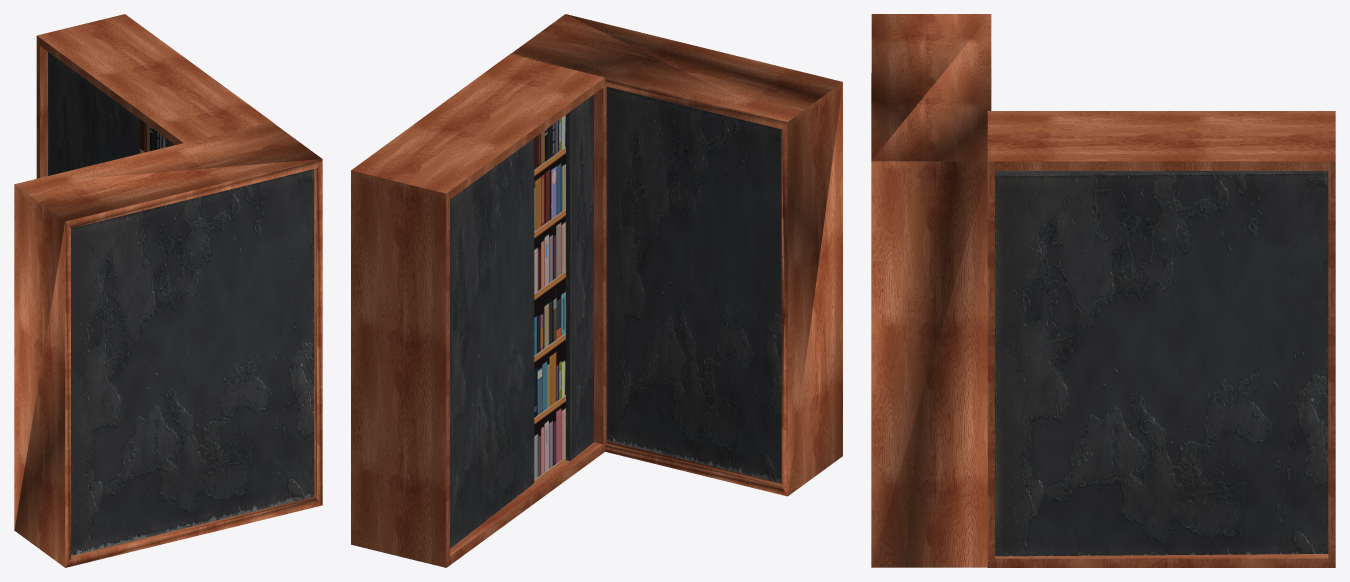
Rendered from book_corner.FBX.
3 views of the same model, side by side, from view 1: azimuth 30°, elevation 25°; view 2: azimuth 150°, elevation 25°; view 3: azimuth 270°, elevation 25° (orthographic). The views are drawn at different scales.
Visible parts, largest first — view 1: Box006, Box002, Box001, Box004; view 2: Box001, Box003, Box002, Box004, Box005; view 3: Box007, Box002, Box001.
Part boxes in pixels (x1=…): Box006: x1=71, y1=169, x2=314, y2=555; Box002: x1=14, y1=122, x2=322, y2=567; Box001: x1=36, y1=14, x2=272, y2=178; Box004: x1=48, y1=52, x2=140, y2=175; Box001: x1=351, y1=53, x2=606, y2=567; Box003: x1=606, y1=86, x2=781, y2=483; Box002: x1=511, y1=14, x2=842, y2=496; Box004: x1=450, y1=138, x2=534, y2=548; Box005: x1=566, y1=94, x2=593, y2=460; Box007: x1=995, y1=171, x2=1328, y2=556; Box002: x1=871, y1=14, x2=991, y2=567; Box001: x1=987, y1=111, x2=1335, y2=567.
Bounding box in the file's own units: 230 × 295 × 306.
Materials: 3 (3 with a texture image).
